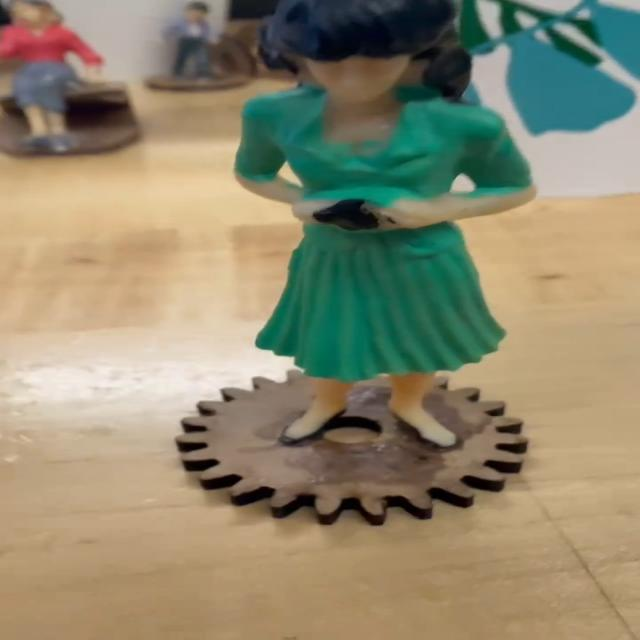Authorized: (201, 0, 555, 558)
